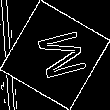M_W: (25, 26, 85, 84)
